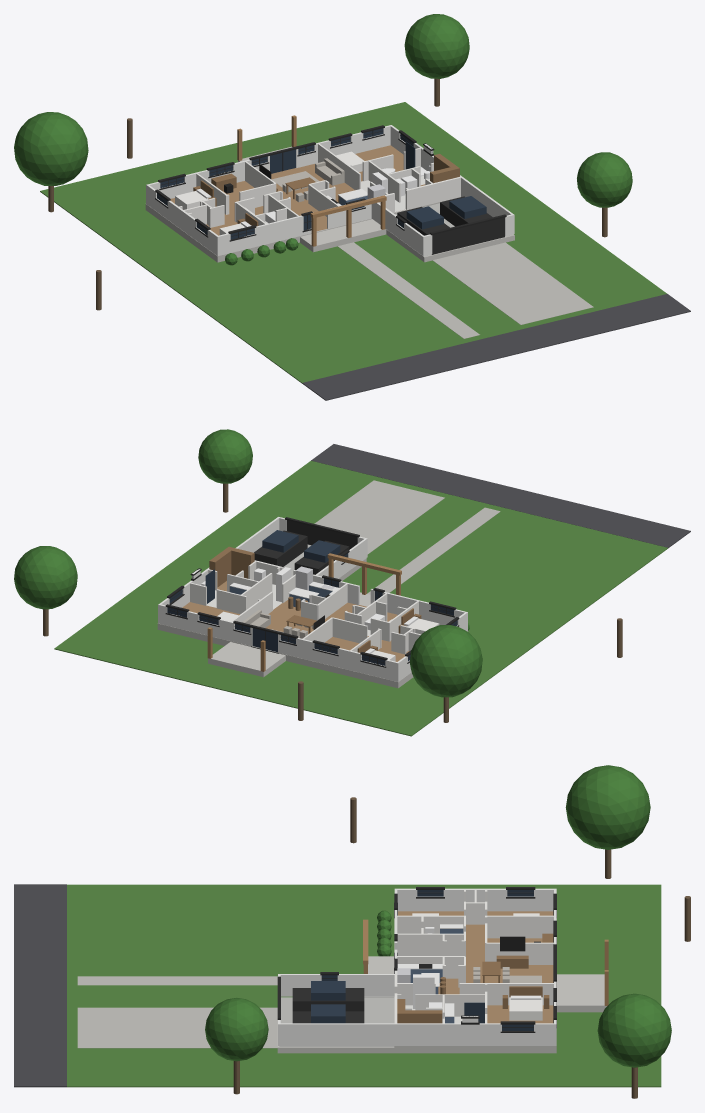
The model's file is plan-003-inside.glb.
The picture shows the model from 3 angles, top to bottom: view 1: azimuth 30°, elevation 25°; view 2: azimuth 150°, elevation 25°; view 3: azimuth 270°, elevation 25°; orthographic projection. The views are drawn at different scales.
Parts seen in each view (by area): view 1: ground, street, drive, Icosphere.007, Icosphere.008, Icosphere.006, floor, walk, f.014, porch, w.009, w.002 (+7 smaller); view 2: ground, street, drive, Icosphere.007, Icosphere.008, Icosphere.006, floor, walk, patio, slab, f.014, fx.059 (+11 smaller); view 3: ground, street, drive, Icosphere.007, Icosphere.008, floor, Icosphere.006, w.039, walk, patio, w.029, w.051 (+19 smaller).
Boxes of the visible parts, x1,y1,x2,y2 form: ground: [40, 102, 666, 383]; street: [302, 294, 690, 400]; drive: [433, 242, 593, 324]; Icosphere.007: [14, 112, 88, 185]; Icosphere.008: [404, 14, 469, 78]; Icosphere.006: [577, 152, 632, 207]; floor: [170, 145, 425, 235]; walk: [338, 242, 479, 338]; f.014: [432, 217, 504, 254]; porch: [300, 219, 386, 252]; w.009: [405, 176, 461, 209]; w.002: [254, 215, 303, 246]; ground: [54, 461, 667, 736]; street: [311, 444, 690, 548]; drive: [314, 480, 444, 554]; Icosphere.007: [410, 625, 482, 697]; Icosphere.008: [14, 546, 77, 609]; Icosphere.006: [198, 429, 252, 483]; floor: [182, 581, 409, 661]; walk: [367, 507, 500, 594]; patio: [208, 642, 285, 677]; slab: [157, 604, 468, 688]; f.014: [286, 520, 357, 549]; fx.059: [254, 530, 307, 566]; ground: [67, 884, 661, 1087]; street: [14, 884, 66, 1087]; drive: [77, 1007, 277, 1048]; Icosphere.007: [565, 765, 650, 849]; Icosphere.008: [597, 993, 671, 1067]; floor: [398, 911, 553, 1023]; Icosphere.006: [205, 997, 268, 1061]; w.039: [278, 1023, 396, 1045]; walk: [77, 976, 277, 985]; patio: [557, 974, 606, 1012]; w.029: [394, 1023, 462, 1045]; w.051: [487, 915, 553, 938].
Bounding box in the file's own units: 122 × 23 × 128.
